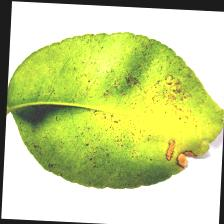canker: (101, 61, 203, 178)
